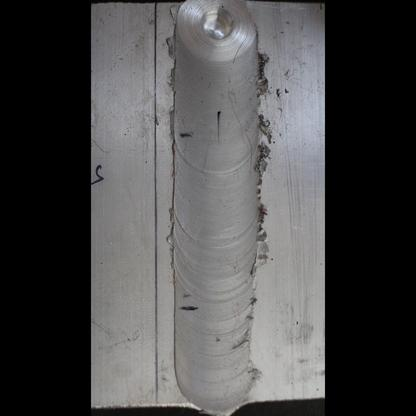crack: (232, 331, 253, 349)
cross-section reduction defect: (156, 267, 270, 404)
flash: (252, 48, 280, 262)
keyhole: (172, 3, 263, 66)
